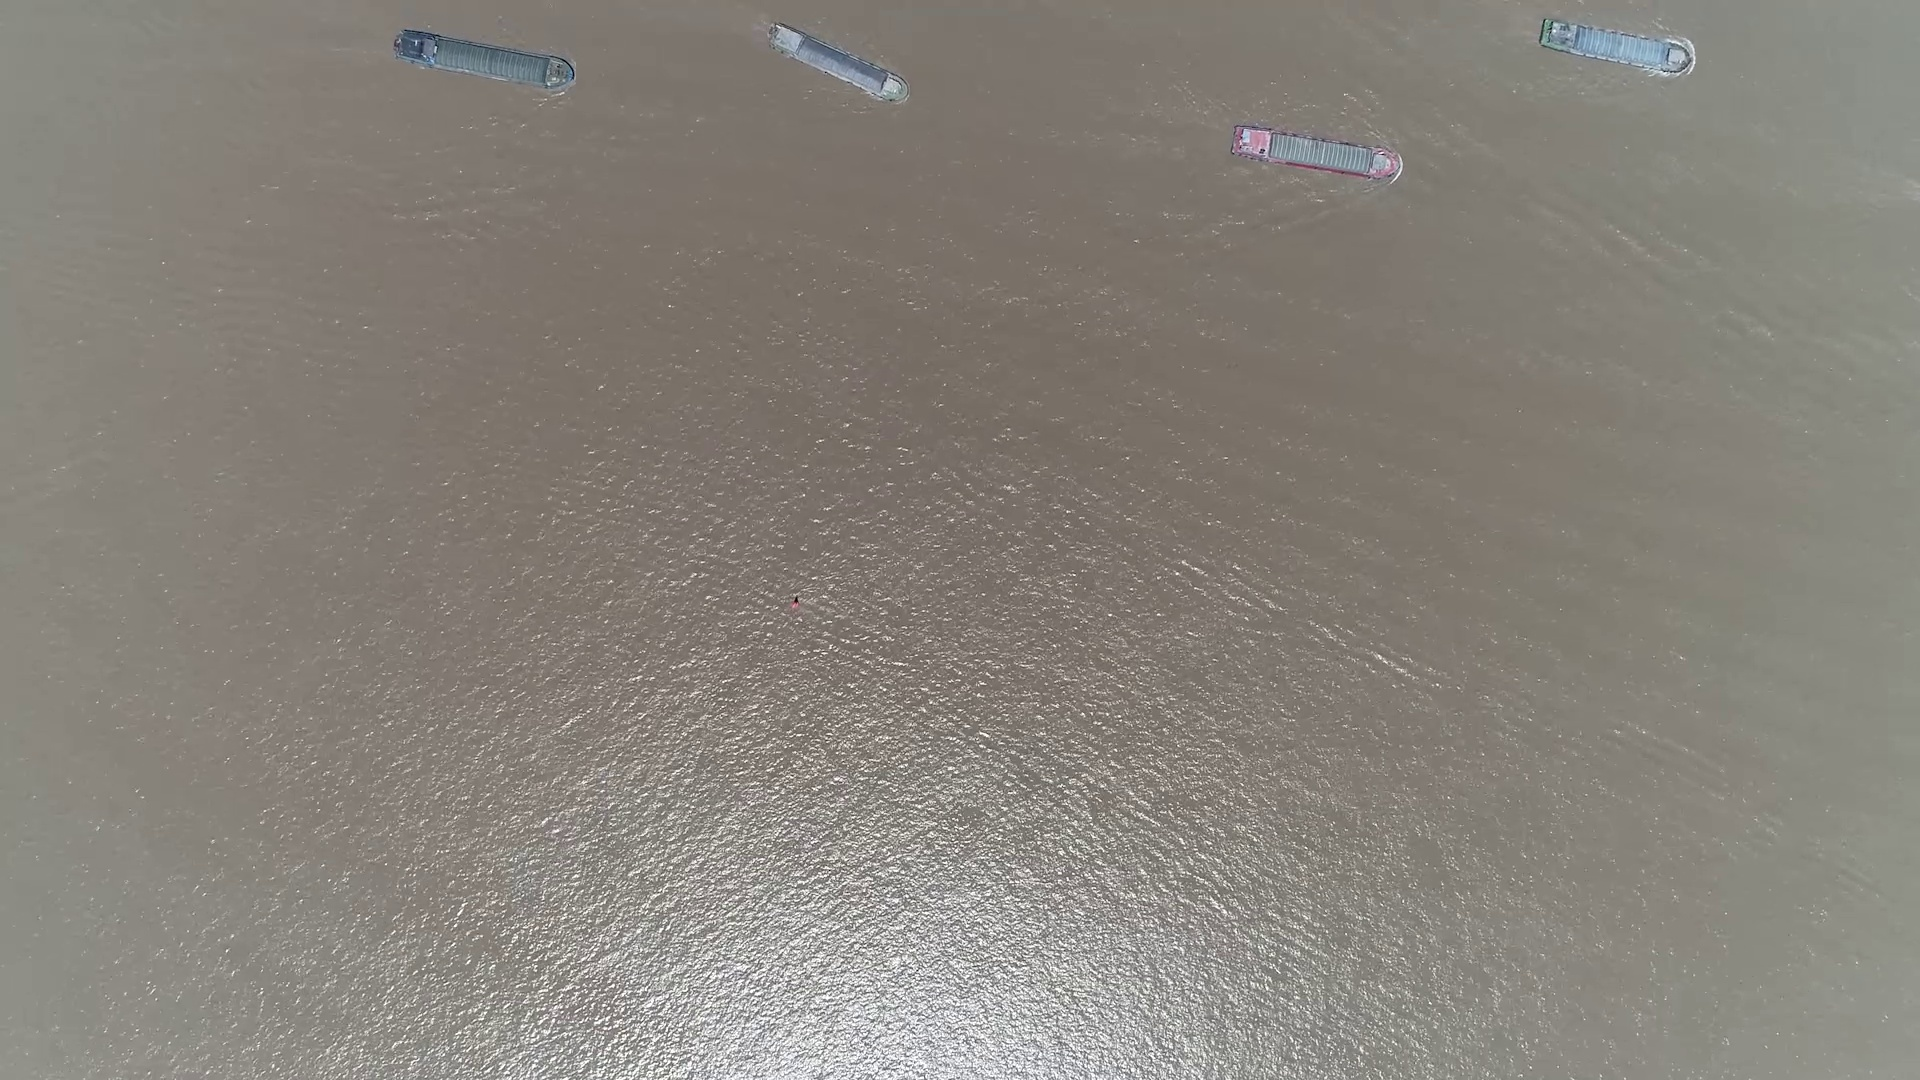ship: (392, 26, 575, 94), (764, 22, 905, 104), (1229, 128, 1403, 182), (1538, 21, 1693, 74)
